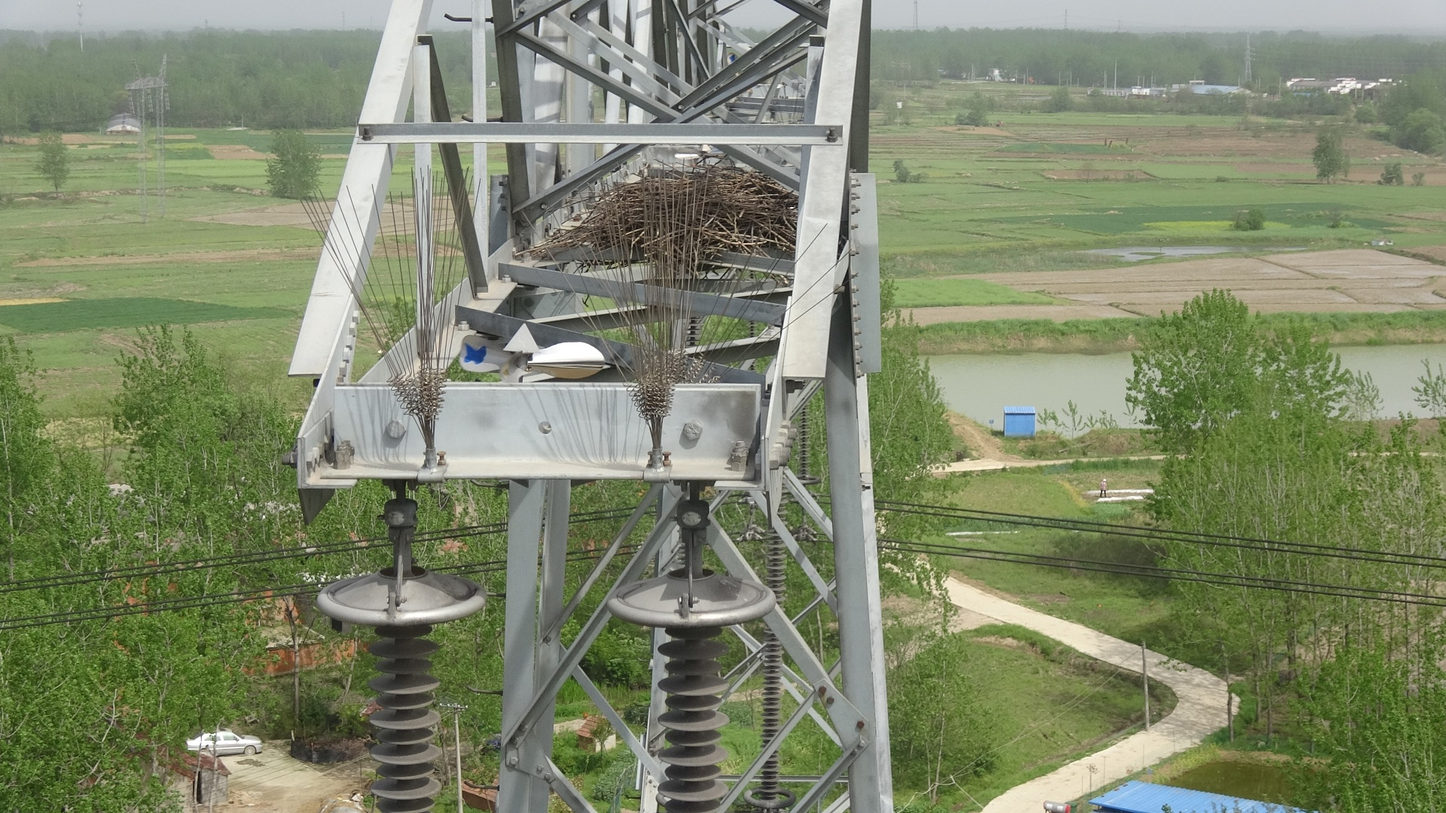insulator: (358, 626, 447, 813), (654, 623, 740, 813), (755, 528, 792, 801), (795, 402, 816, 477)
